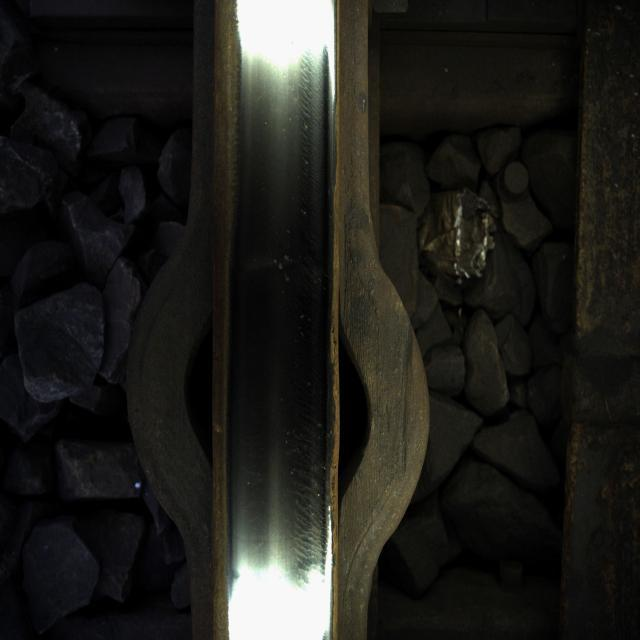break: (250, 55, 312, 594)
